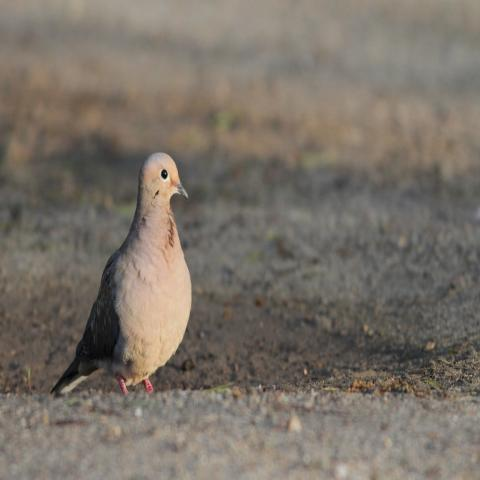bird: (48, 149, 193, 399)
